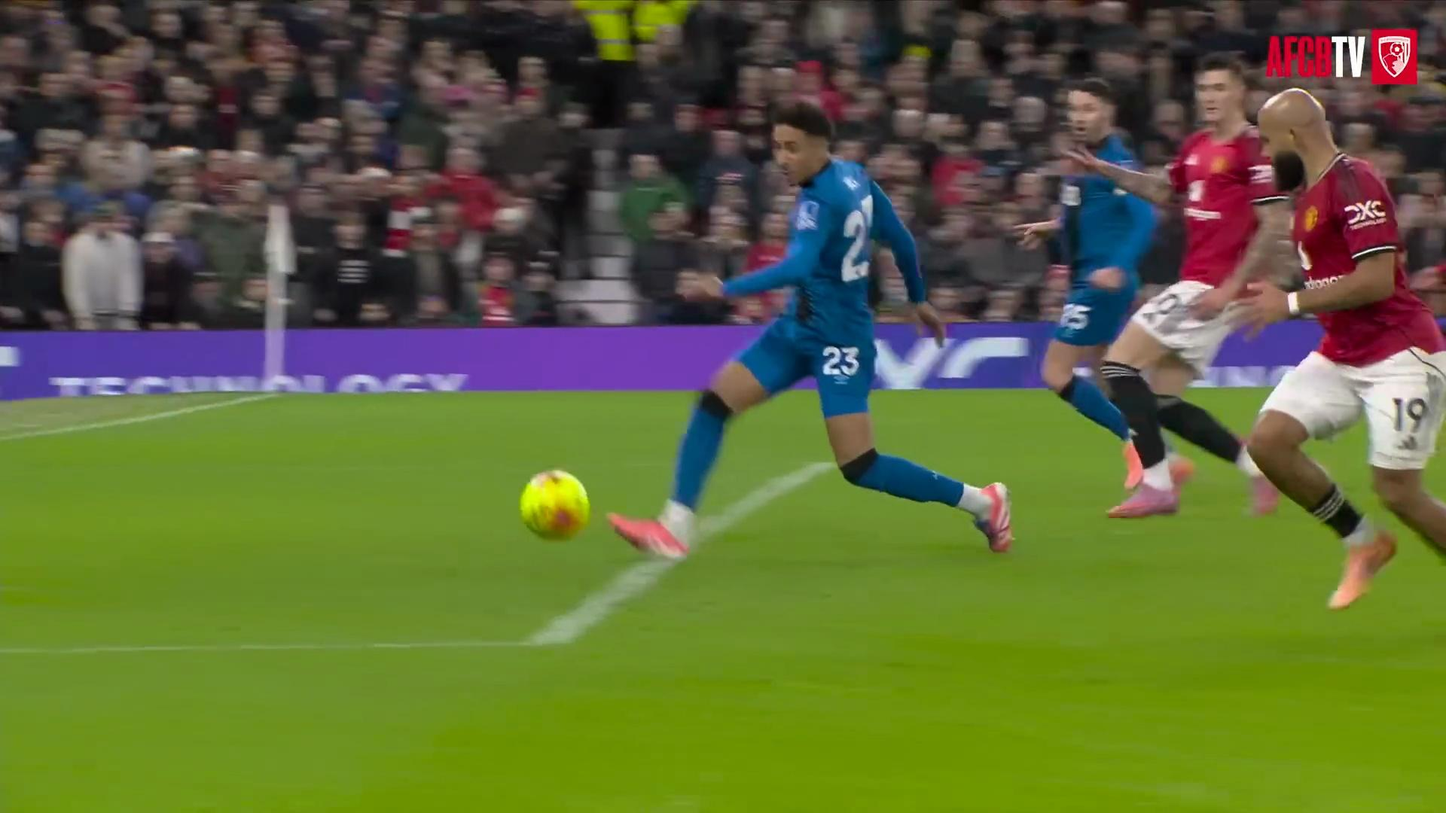football: (520, 470, 590, 540)
player: (610, 102, 1011, 556), (1241, 90, 1445, 608), (1070, 55, 1290, 517), (1017, 174, 1155, 470)
